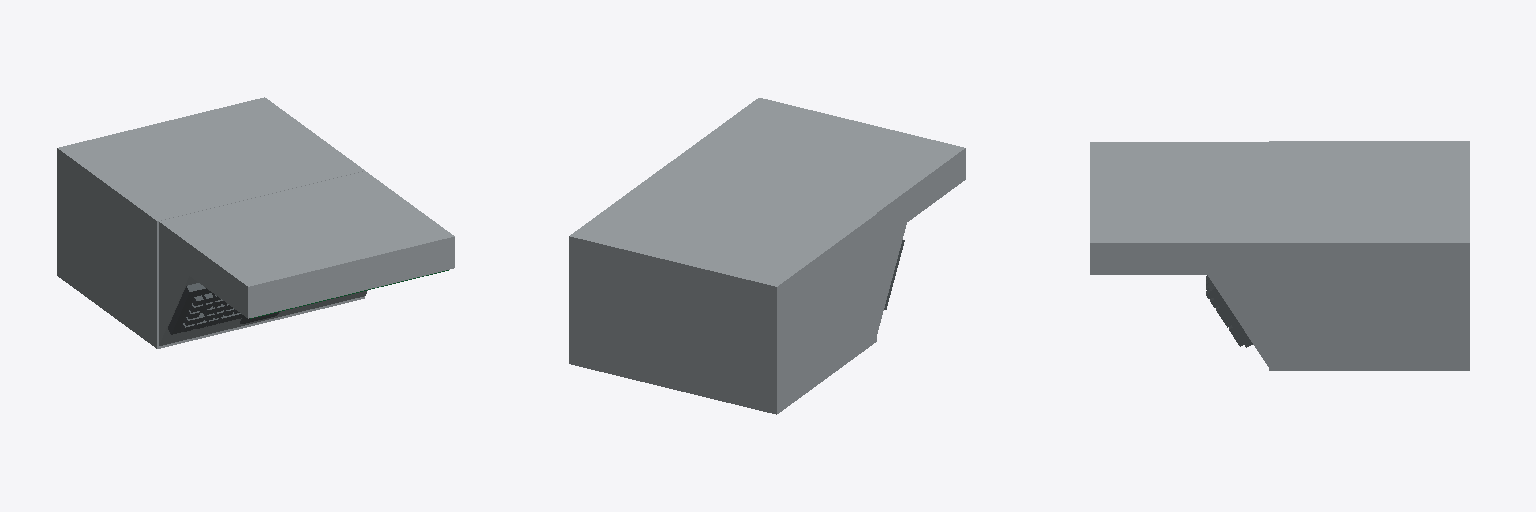
The model's file is terminal.obj.
3 renders of one model, left to right at view 1: azimuth 30°, elevation 25°; view 2: azimuth 150°, elevation 25°; view 3: azimuth 270°, elevation 25°, orthographic.
Visible parts, largest first — view 1: obj_0; view 2: obj_0; view 3: obj_0.
Boxes of the visible parts, box(x1,y1,x2,y2) form: obj_0: box(57, 97, 454, 348); obj_0: box(569, 98, 965, 414); obj_0: box(1090, 141, 1469, 370).
Size of the model in its own units: 44.25 by 26 by 70.